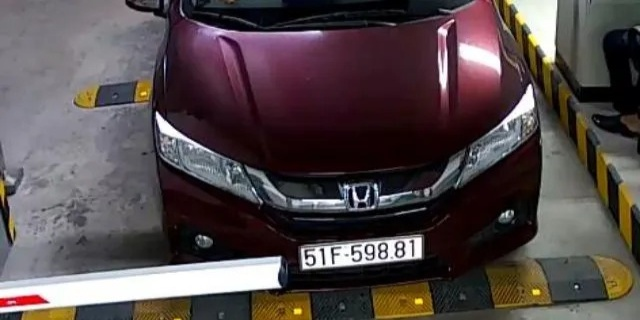bien_so: (301, 239, 422, 266)
